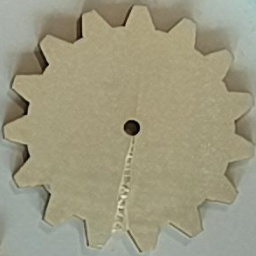Crack: (107, 135, 139, 234)
